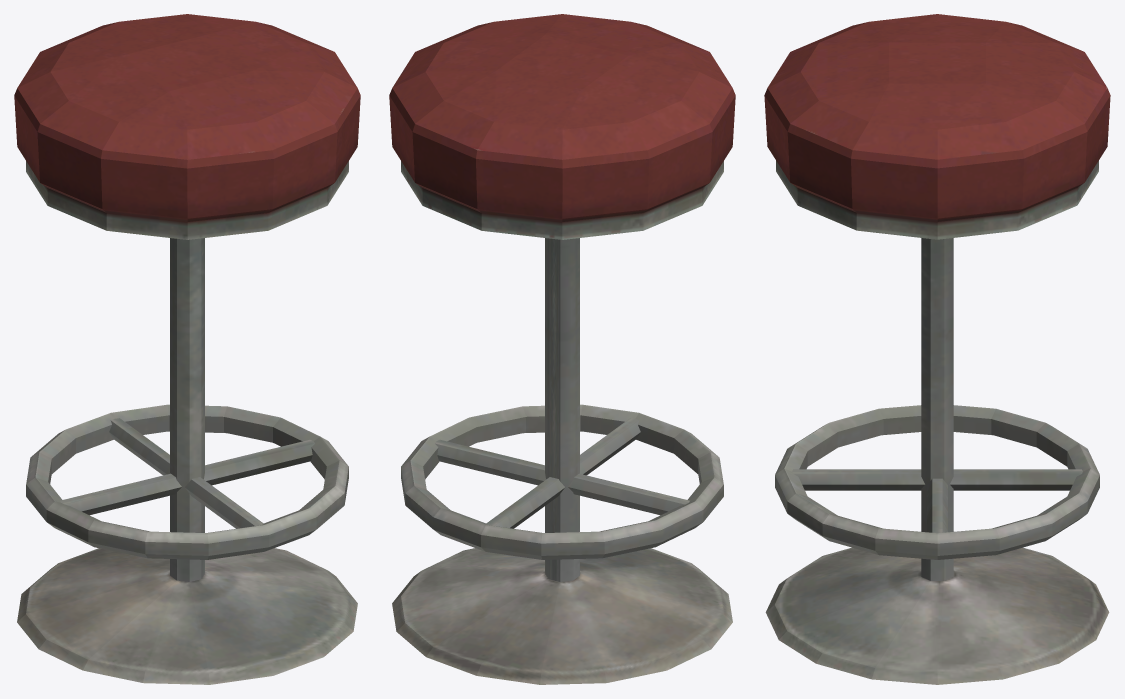
File: Stool (DR).obj
The picture shows the model from 3 angles, left to right: view 1: azimuth 30°, elevation 25°; view 2: azimuth 150°, elevation 25°; view 3: azimuth 270°, elevation 25°; orthographic projection.
Visible parts, largest first — view 1: rdmobj01_model\om\om0; view 2: rdmobj01_model\om\om0; view 3: rdmobj01_model\om\om0.
Part boxes in pixels (<box>): rdmobj01_model\om\om0: <box>14,14,360,684</box>; rdmobj01_model\om\om0: <box>389,14,735,684</box>; rdmobj01_model\om\om0: <box>764,14,1110,684</box>.
Bounding box in the file's own units: 4.89 × 8.56 × 4.89.
1 material, 1 textured.
